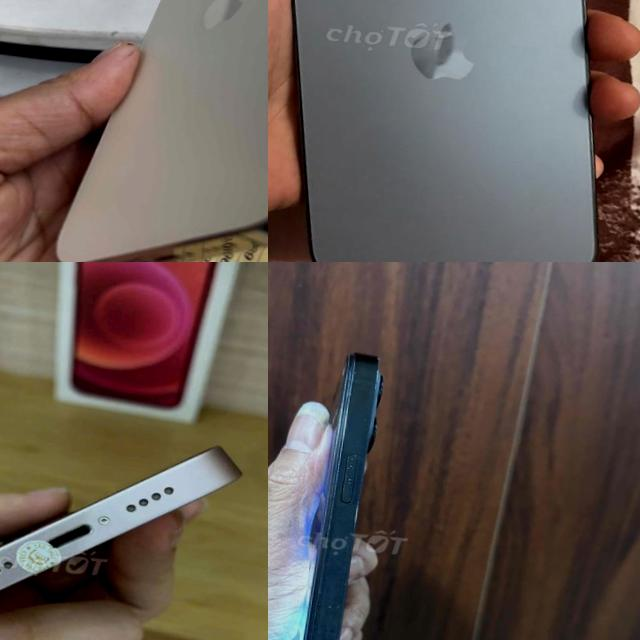gen_12_13: (268, 0, 640, 262), (43, 0, 268, 262), (0, 418, 258, 640), (268, 333, 409, 640)
